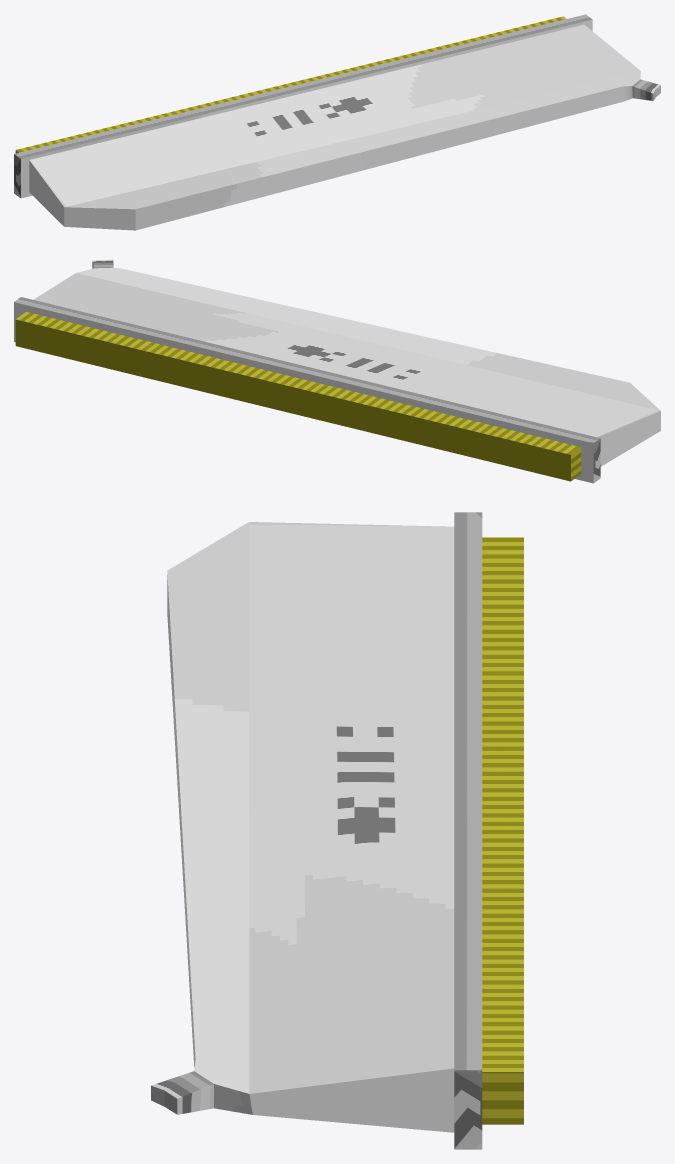
Rendered from RAM_Branco.fbx.
3 renders of one model, top to bottom at view 1: azimuth 30°, elevation 25°; view 2: azimuth 150°, elevation 25°; view 3: azimuth 270°, elevation 25°, orthographic. The views are drawn at different scales.
Visible parts, largest first — view 1: Ram8.001; view 2: Ram8.001; view 3: Ram8.001.
Boxes of the visible parts, box(x1,y1,x2,y2) form: Ram8.001: box(14, 14, 660, 230); Ram8.001: box(14, 259, 660, 483); Ram8.001: box(151, 512, 523, 1149).
Bounding box in the file's own units: 473 × 30.8 × 132.
